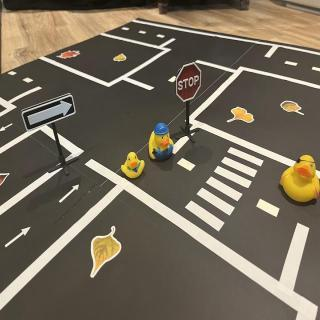duck_regular: (121, 152, 147, 180)
duck_specialty: (279, 153, 320, 209), (148, 119, 176, 165)
road_crosswalk: (182, 144, 268, 239)
road_oneway: (5, 225, 33, 251), (59, 182, 83, 208), (1, 121, 17, 136)
sign_oneway_right: (22, 92, 78, 134)
sign_stop: (178, 63, 202, 103)
